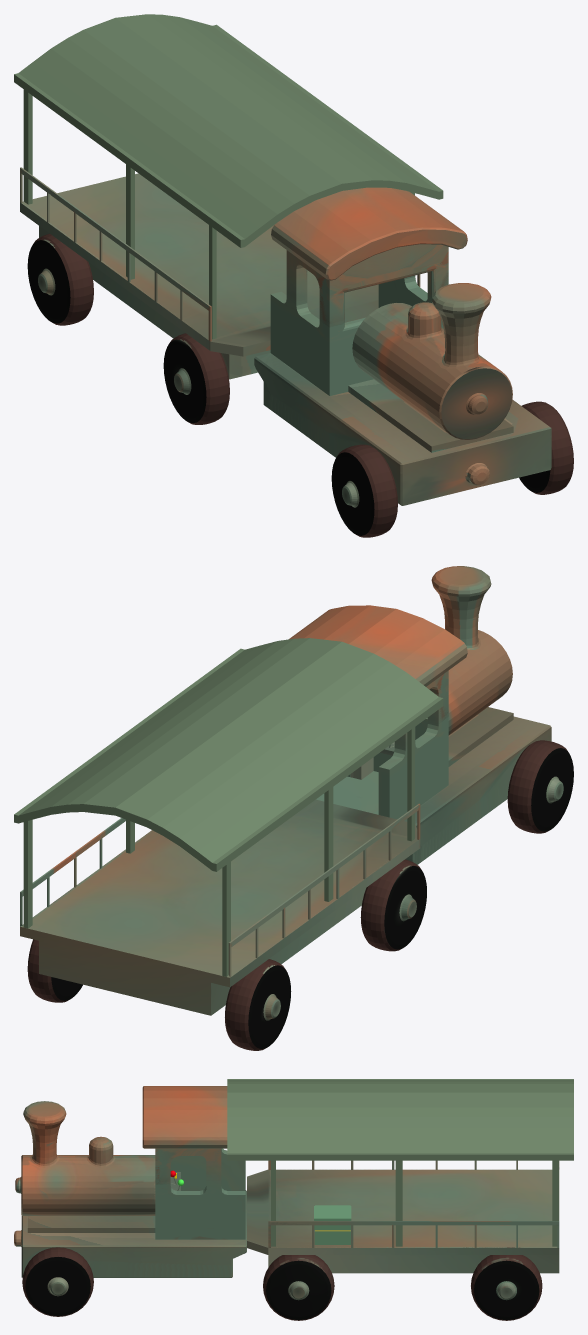
Rendered from CatTrainUpgrade1.fbx.
3 renders of one model, top to bottom at view 1: azimuth 30°, elevation 25°; view 2: azimuth 150°, elevation 25°; view 3: azimuth 270°, elevation 25°, orthographic. The views are drawn at different scales.
Parts seen in each view (by area): view 1: TrainUpgrade1, Roof1; view 2: TrainUpgrade1, Roof1; view 3: TrainUpgrade1, Roof1, Chest1.
Boxes of the visible parts, left/top/right/bottom form: TrainUpgrade1: left=20, top=167, right=573, bottom=537; Roof1: left=14, top=14, right=443, bottom=339; TrainUpgrade1: left=20, top=566, right=573, bottom=1050; Roof1: left=14, top=638, right=443, bottom=976; TrainUpgrade1: left=14, top=1086, right=559, bottom=1320; Roof1: left=227, top=1079, right=573, bottom=1246; Chest1: left=314, top=1205, right=351, bottom=1244.
Size of the model in its own units: 251 by 252 by 678.
Materials: 4 (1 with a texture image).
